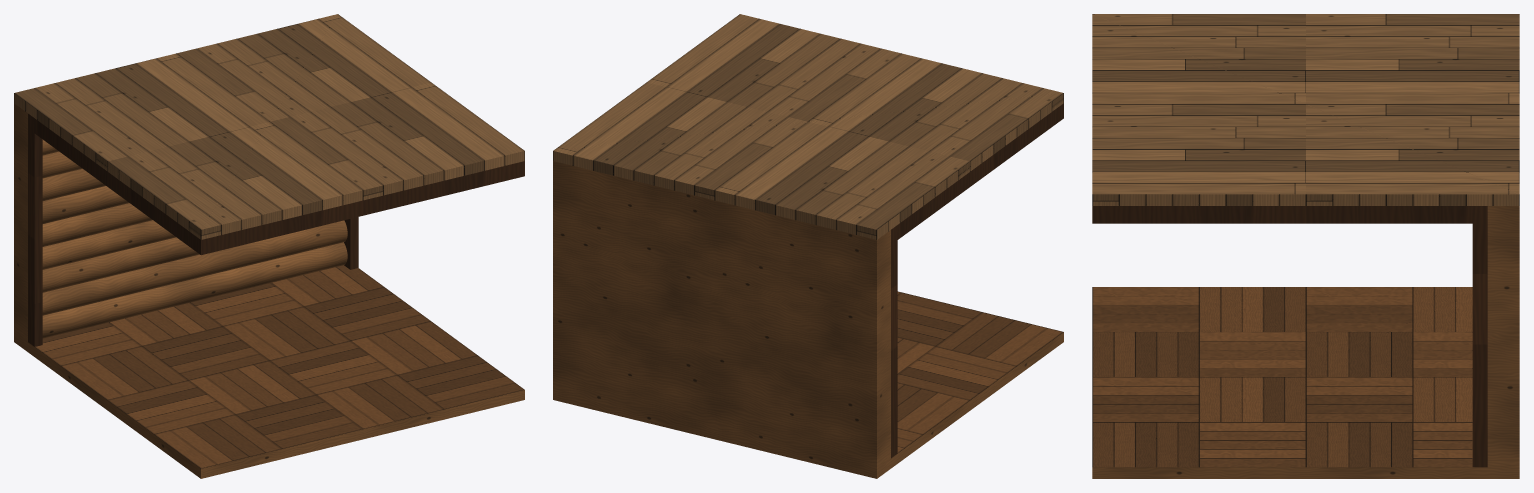
File: Room_Cabin_Wall.glb
3 renders of one model, left to right at view 1: azimuth 30°, elevation 25°; view 2: azimuth 150°, elevation 25°; view 3: azimuth 270°, elevation 25°, orthographic. The views are drawn at different scales.
Visible parts, largest first — view 1: Room_Cabin_Wall, Room_Cabin_Wall_Ceiling; view 2: Room_Cabin_Wall, Room_Cabin_Wall_Ceiling; view 3: Room_Cabin_Wall_Ceiling, Room_Cabin_Wall.
Part boxes in pixels (x1,y1,x2,y2): Room_Cabin_Wall: (14, 103, 524, 478); Room_Cabin_Wall_Ceiling: (14, 14, 524, 255); Room_Cabin_Wall: (553, 161, 1063, 478); Room_Cabin_Wall_Ceiling: (553, 14, 1063, 244); Room_Cabin_Wall_Ceiling: (1092, 14, 1519, 223); Room_Cabin_Wall: (1092, 206, 1519, 478).
Size of the model in its own units: 4 by 2.94 by 4.
7 materials, 5 textured.
